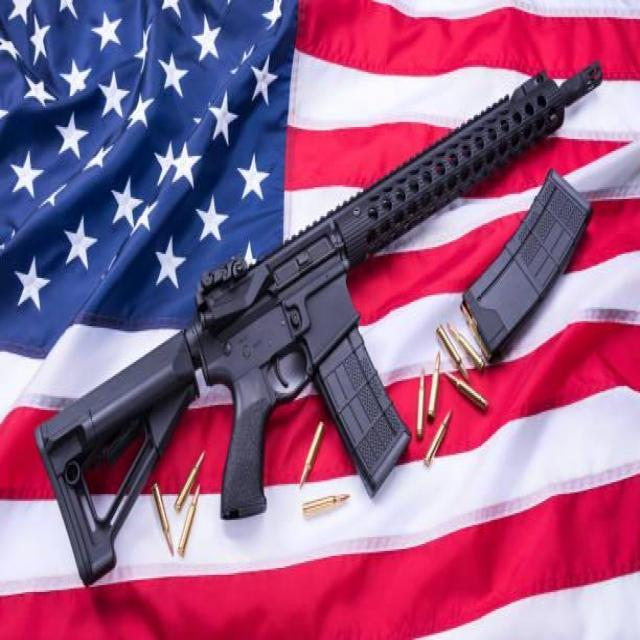weapon: (34, 61, 604, 588)
